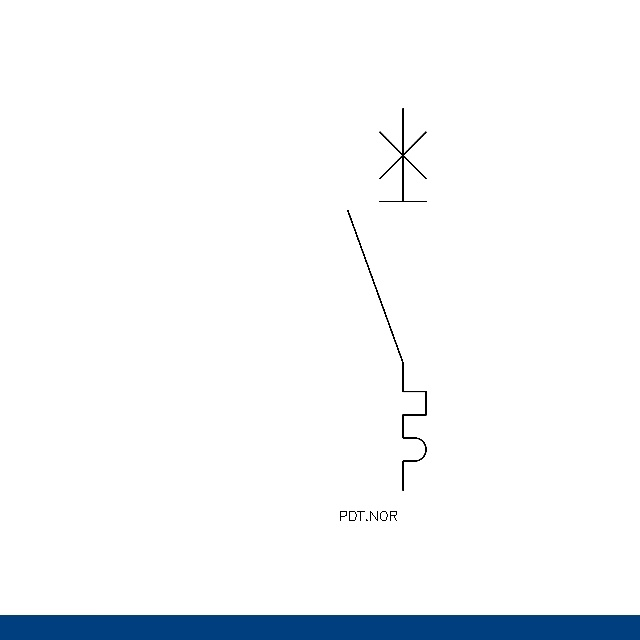interruptor_termomagnetico: (338, 99, 436, 500)
